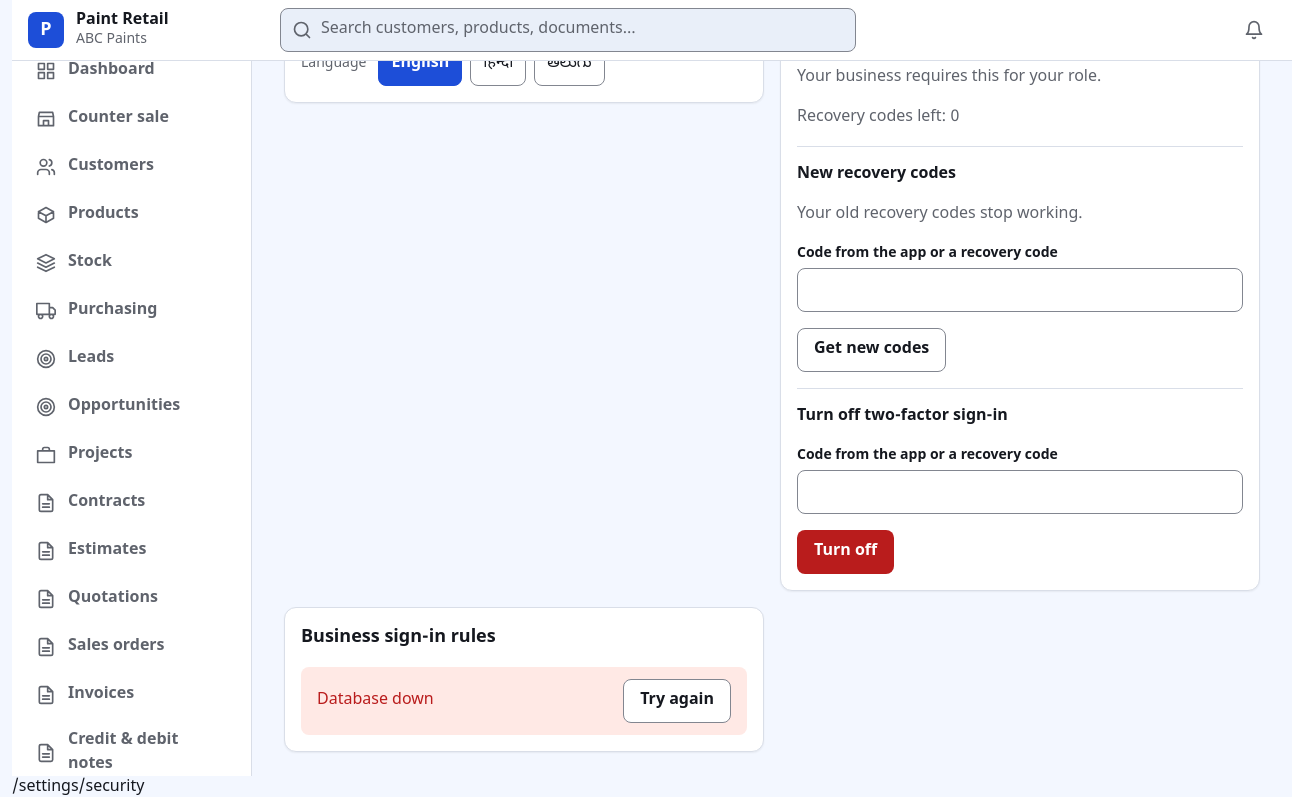
Scenario: business sign-in rules › lets owners and admins turn the requirement off and on
(page scrolled)
Check: the message shows "Database down", box [317,690,434,711]
Step 1. Click the button "Try again" → (677, 701), box [623,679,731,723]
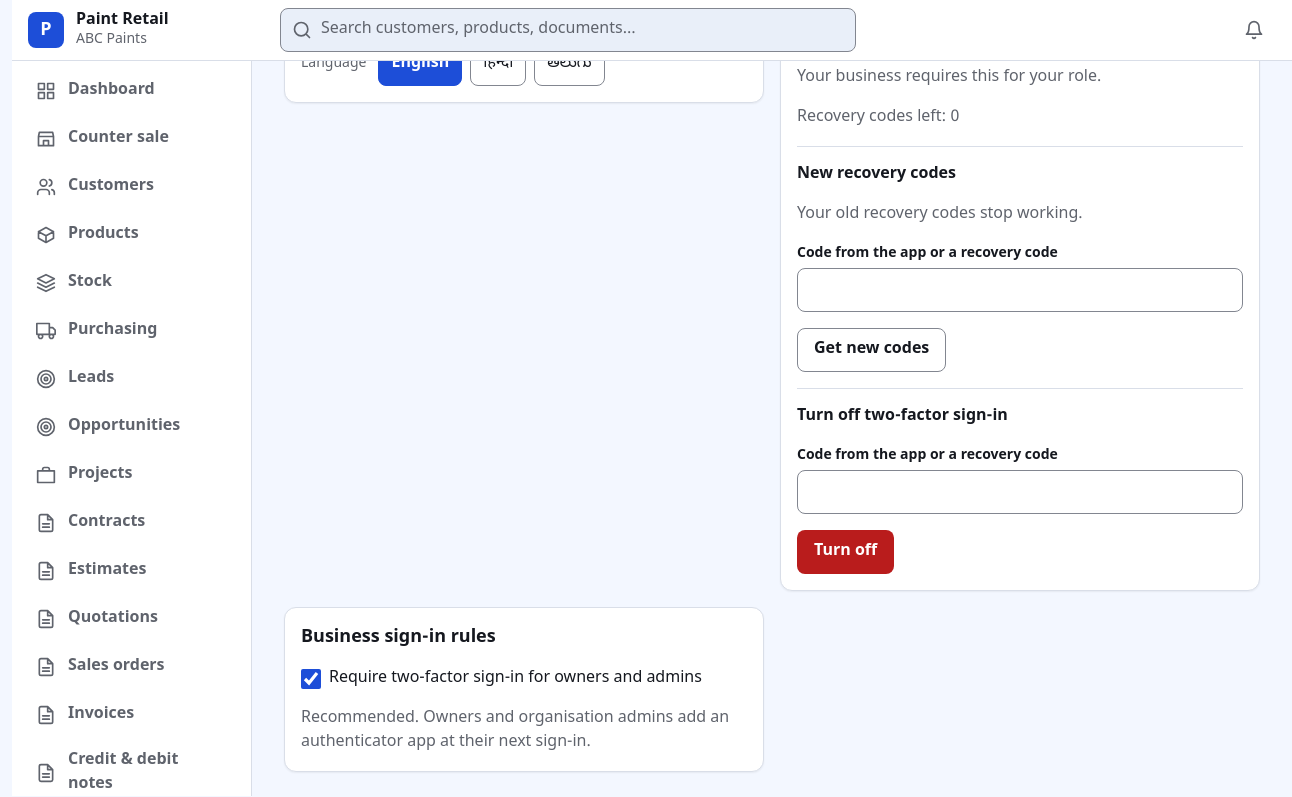
Check: the checkbox labelled "Require two-factor sign-in for owners and admins" is checked
Step 2. Click the checkbox labelled "Require two-factor sign-in for owners and admins" → (311, 679), box [301,669,321,689]
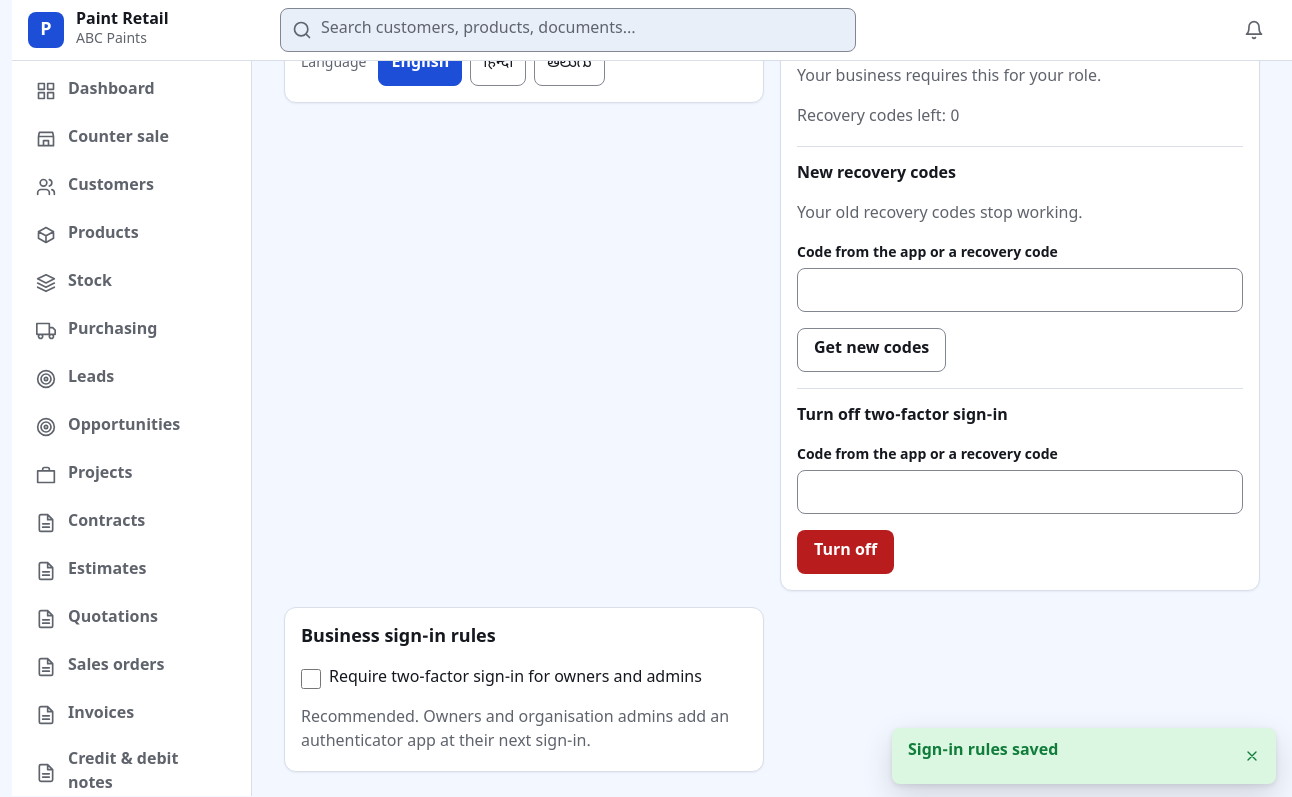
Check: the text "Sign-in rules saved" is shown, box [908,741,1058,762]
Step 3. Click the checkbox labelled "Require two-factor sign-in for owners and admins" → (311, 679), box [301,669,321,689]
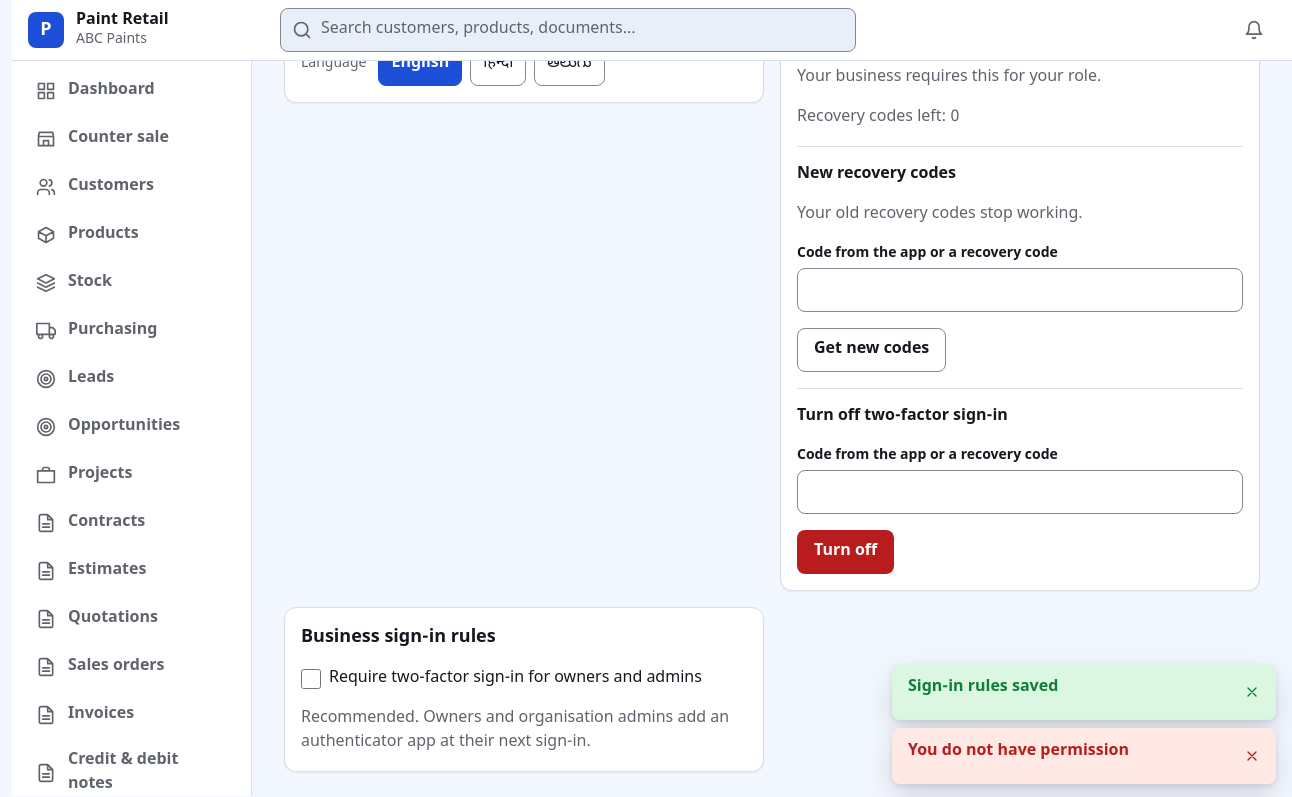
Check: the text "You do not have permission" is shown, box [908,741,1129,762]
